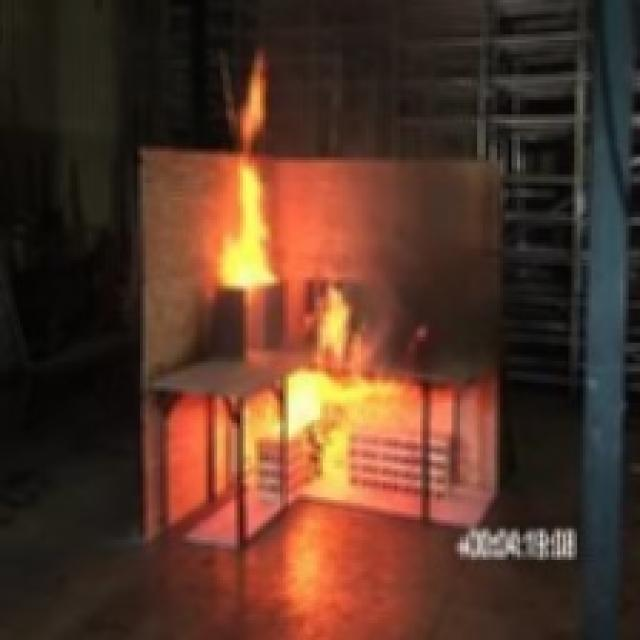fire: (245, 312, 426, 508), (203, 40, 306, 326)
